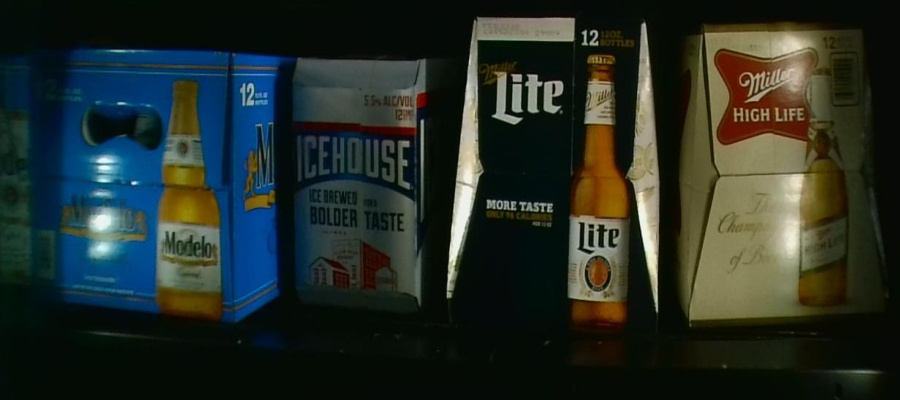bottle: (3, 50, 279, 321), (448, 14, 659, 329), (672, 26, 887, 329), (289, 55, 439, 317)
